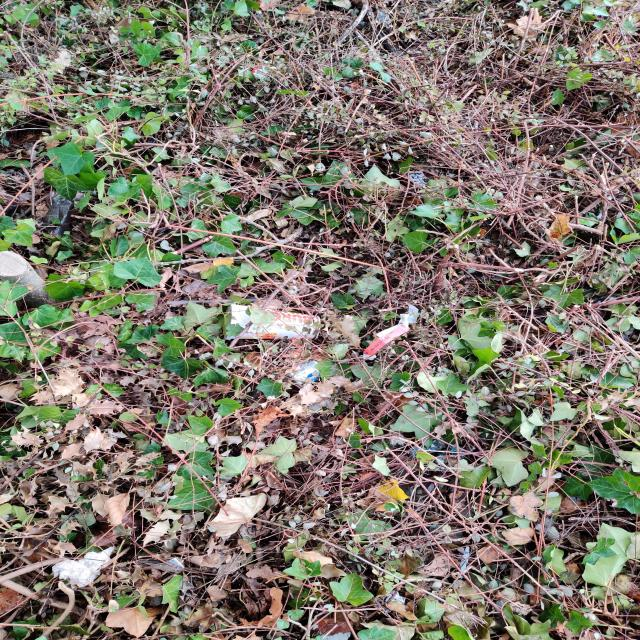litter: (227, 301, 327, 345)
